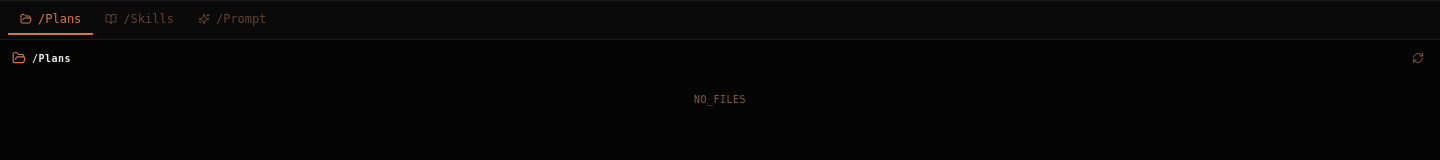
Test: PlansPanelTabs › shows loading spinner for skills when loading and skills tab active
Step 1. Click the button "/Skills" → (140, 20), box left=93, top=5, right=186, bottom=35
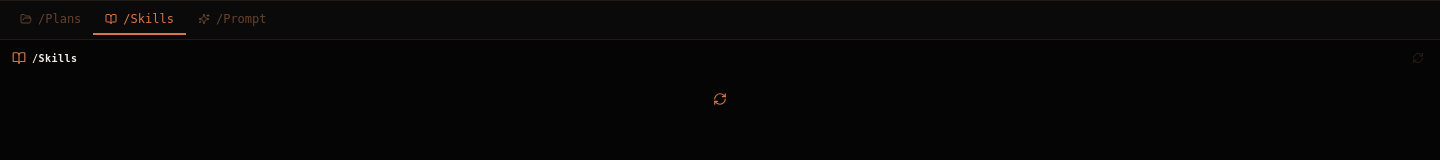
Check: the 1st icon with class "animate-spin" is shown, box left=1412, top=52, right=1424, bottom=64
